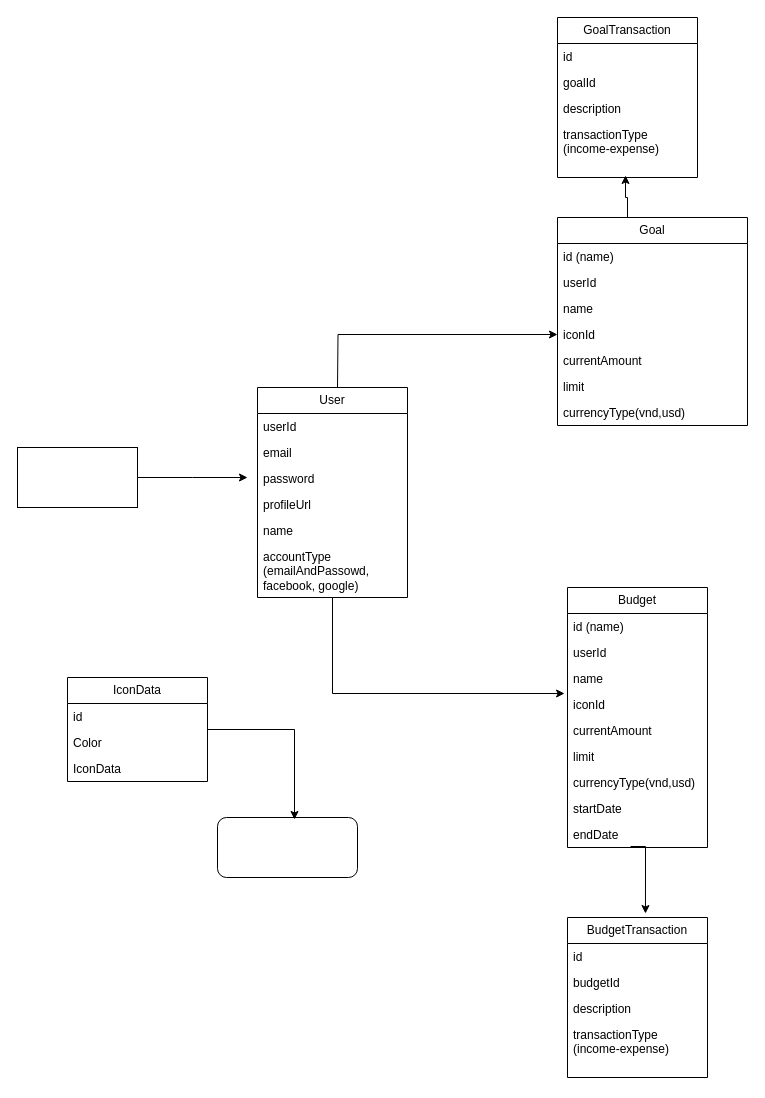
This 765x1098 diagram has some shape labels left out. The centre of each missing label's shape, as x and y in pixels:
"This is the data local" goes at (x=287, y=847).
"Users" goes at (x=77, y=477).
